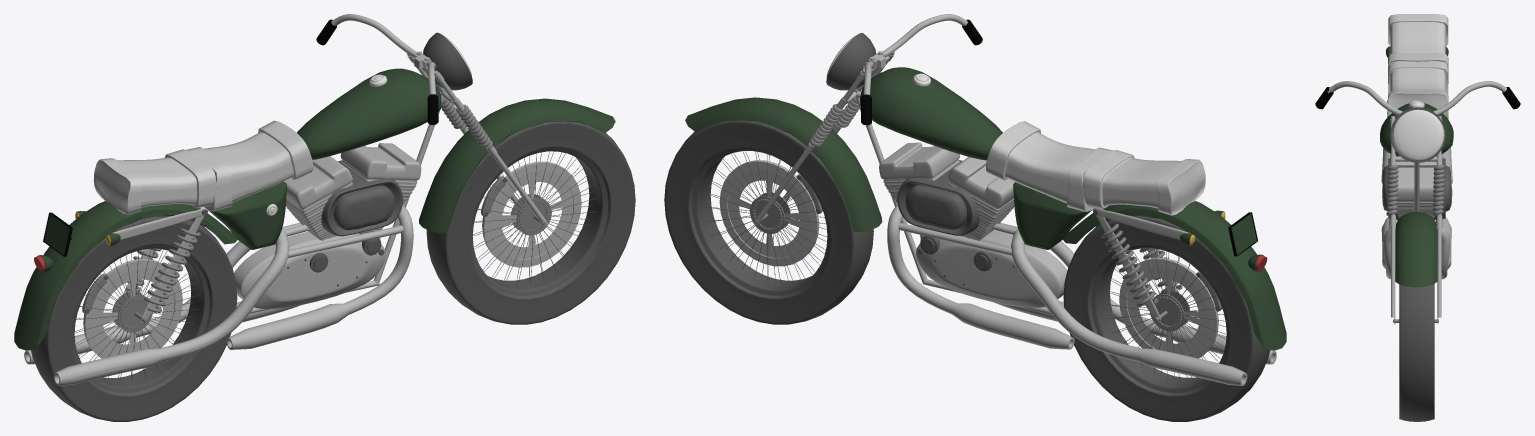
The model's file is bike.fbx.
3 views of the same model, side by side, from view 1: azimuth 30°, elevation 25°; view 2: azimuth 150°, elevation 25°; view 3: azimuth 270°, elevation 25° (orthographic). The views are drawn at different scales.
Parts seen in each view (by area): view 1: polySurface171; view 2: polySurface171; view 3: polySurface171.
Part boxes in pixels (<box>): polySurface171: <box>14,14,635,421</box>; polySurface171: <box>664,14,1286,421</box>; polySurface171: <box>1315,14,1520,421</box>.
Bounding box in the file's own units: 16.72 × 8.09 × 5.52.
